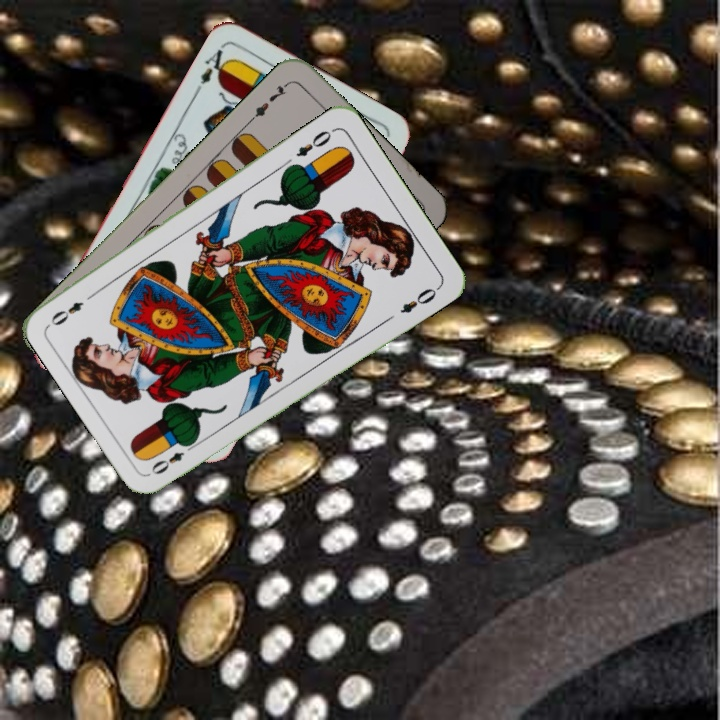E7: (246, 78, 292, 124)
EA: (196, 40, 233, 87)
EO: (147, 438, 199, 478), (292, 126, 334, 160)
